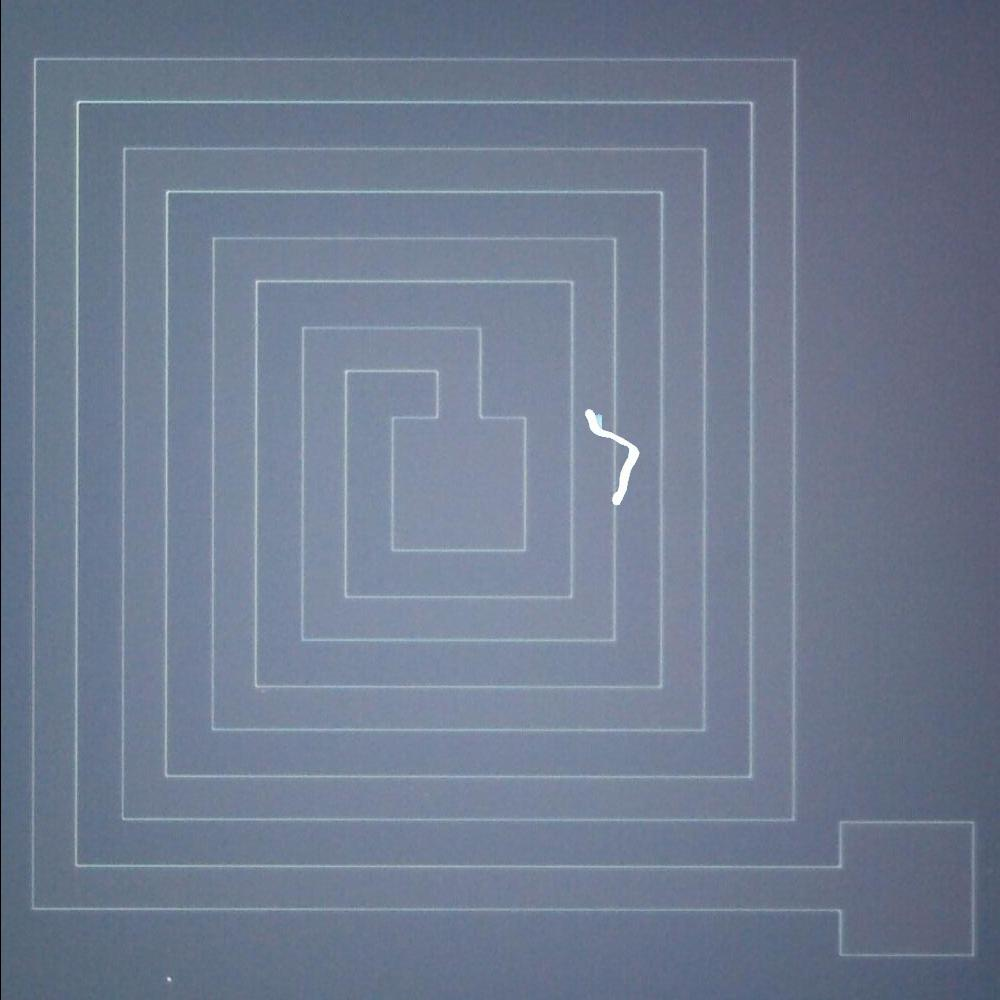dot: (154, 962, 182, 991)
line: (576, 402, 647, 510)
